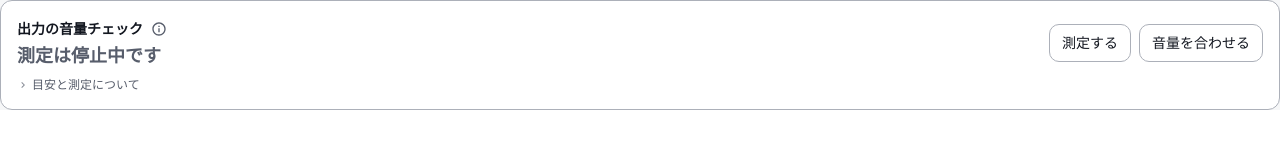
Test case: 出力の音量チェック › 入力エラー後の停止失敗も未確認を保ち、停止を再試行できる
Click the button "測定する" at (1090, 43), box [1049,24,1131,62]
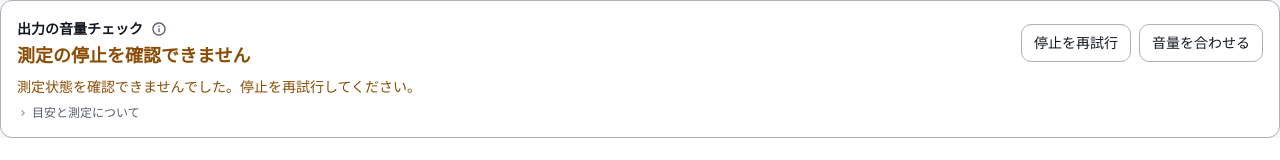
Expected: the message "測定の停止を確認できません" does not show "大きすぎ", [17,41,250,69]
Result: the message "測定の停止を確認できません" is shown at [17,41,250,69]
Click the button "停止を再試行" at (1076, 43), box [1021,24,1131,62]
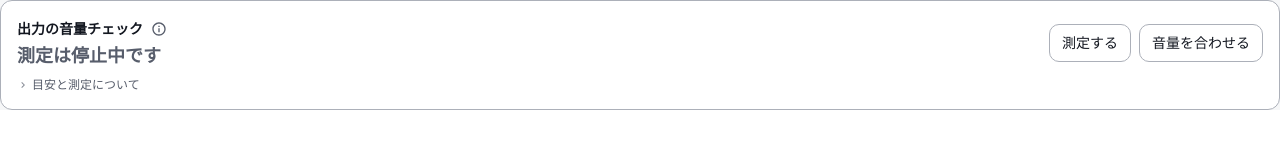
Result: the message reads "測定は停止中です" at [17,43,161,67]
